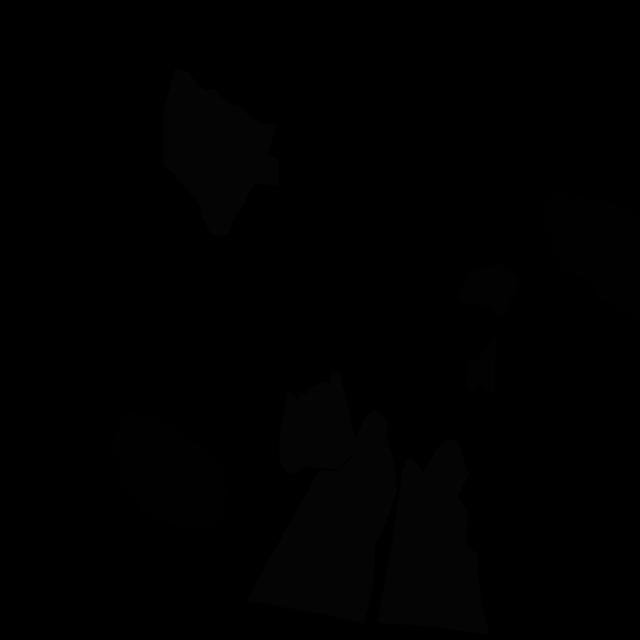cardboard: (457, 263, 520, 319), (466, 338, 496, 392)
rigid_plastic: (113, 409, 228, 529), (544, 188, 640, 326)
soft_plastic: (246, 411, 397, 624), (377, 438, 489, 634), (163, 68, 279, 237), (279, 371, 355, 475)
